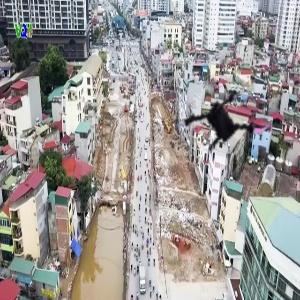drone: (170, 68, 275, 173)
